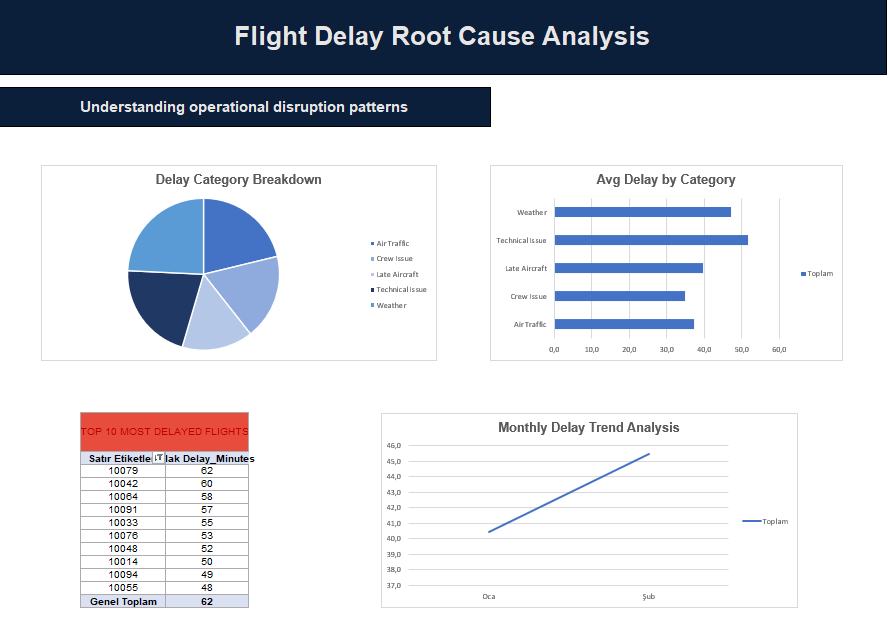

The page's visual inventory and layout, read from the dashboard file:
{"tool":"powerbi","page":{"name":"Delay Analysis","canvas":[1280,720],"ordinal":1},"visuals":[{"type":"pieChart","title":"Delay Category","fields":{"Category":["fact_delays.Delay_Category"],"Y":["_measure.falan"]},"box":[58.6,34.3,420,337.1],"z":0},{"type":"barChart","title":"Avg Delay by Category","fields":{"Category":["fact_delays.Delay_Category"],"Y":["CountNonNull(fact_delays.Flight_ID)"]},"box":[575.7,34.3,641.4,337.1],"z":1},{"type":"tableEx","title":"Top 10 Delayed Flights","fields":{"Values":["fact_delays.Flight_ID","Sum(fact_delays.Delay_Minutes)"]},"box":[805.7,391.4,411.4,307.1],"z":2},{"type":"lineChart","title":"Monthly Delay Trend","fields":{"Category":["Calendar.Date.Varyasyon.Tarih Hiyerarşisi.Ay"],"Y":["_measure.Delayed Flights"]},"box":[58.6,391.4,690,307.1],"z":3}]}

Visuals, with their boxes on the page's 1280x720 design canvas (x1, y1, x2, y2). These are canvas units, not pixel positions in the 888x634 screenshot, which may show the page scaled, cropped or inside an application window:
"Delay Category" pieChart: [x1=59, y1=34, x2=479, y2=371]
"Avg Delay by Category" barChart: [x1=576, y1=34, x2=1217, y2=371]
"Top 10 Delayed Flights" tableEx: [x1=806, y1=391, x2=1217, y2=698]
"Monthly Delay Trend" lineChart: [x1=59, y1=391, x2=749, y2=698]
